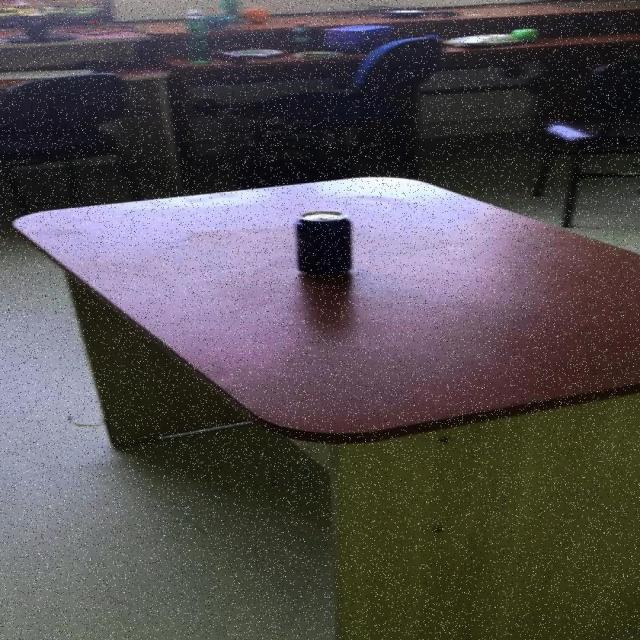Tonic: (293, 210, 351, 274), (183, 8, 209, 63), (289, 20, 311, 51)
